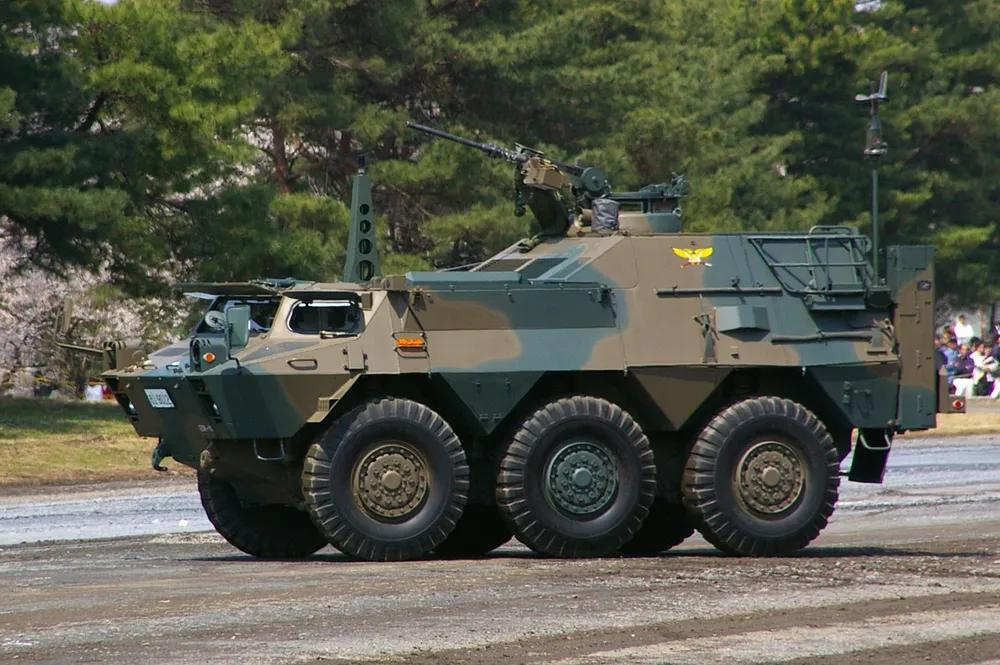MIL_IFV: (98, 148, 937, 567)
